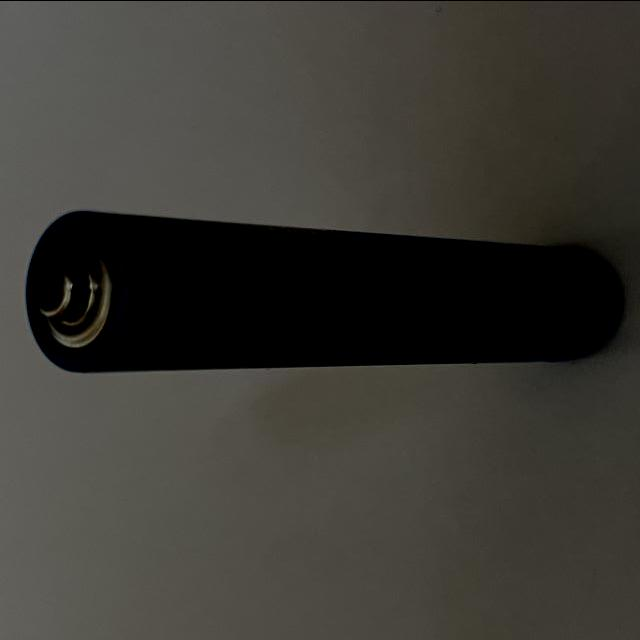AAA: (21, 208, 622, 378)
